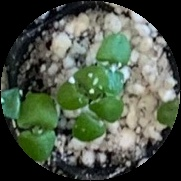Basil: (14, 94, 56, 158), (97, 29, 130, 94), (56, 64, 103, 109), (74, 95, 121, 139)
